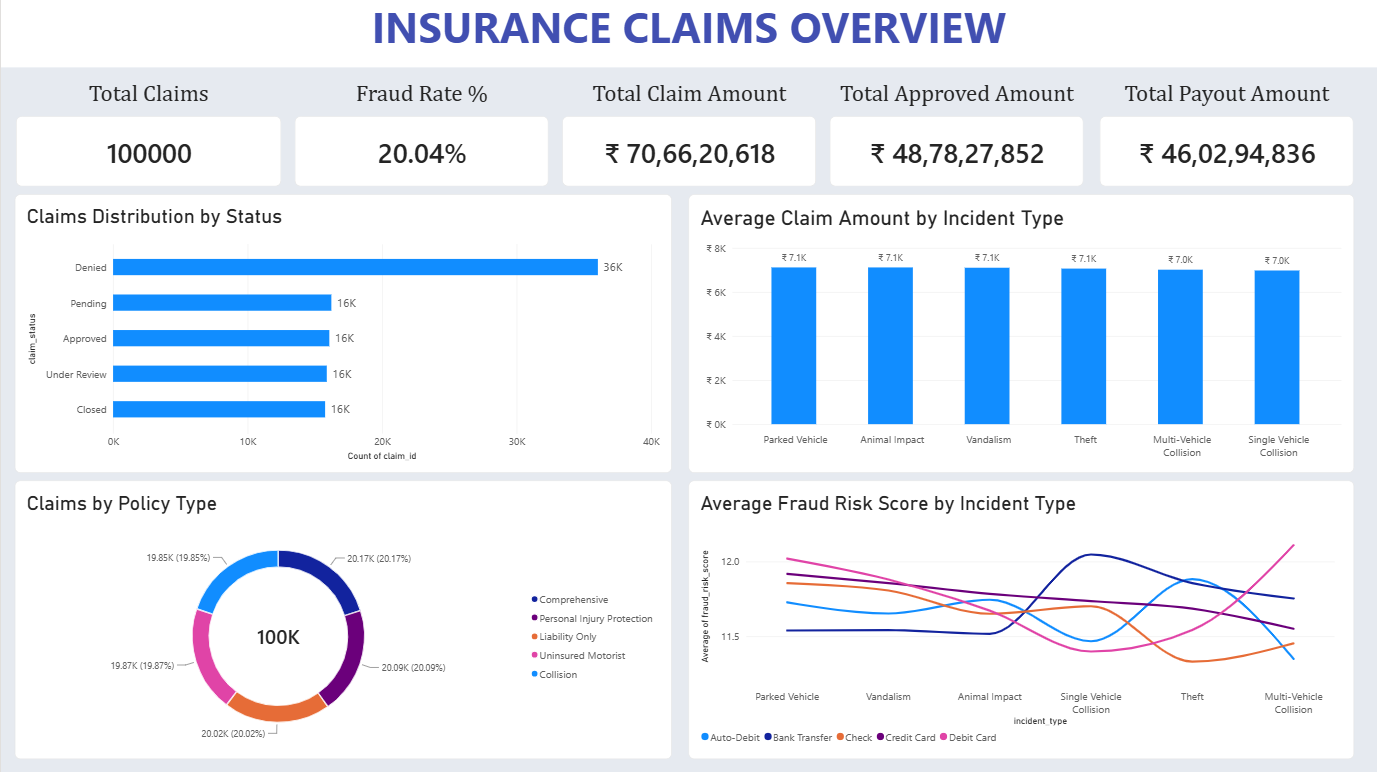

What the dashboard file says about the page in this screenshot:
{"tool":"powerbi","page":{"name":"Overview","canvas":[1920,1080],"ordinal":0},"visuals":[{"type":"cardVisual","title":"Total Claims","fields":{"Data":["insurance_claim_fraud_powerbi.Total Claims"]},"box":[20.9,117.4,370.4,146.1],"z":0},{"type":"textbox","box":[0,0,1920,96.5],"z":1000},{"type":"cardVisual","title":"Fraud Rate %","fields":{"Data":["insurance_claim_fraud_powerbi.Fraud Rate %"]},"box":[409.6,117.4,354.8,146.1],"z":2000},{"type":"cardVisual","title":"Total Claim Amount","fields":{"Data":["insurance_claim_fraud_powerbi.Total Claim Amount"]},"box":[782.6,117.4,354.8,146.1],"z":3000},{"type":"cardVisual","title":"Total Approved Amount","fields":{"Data":["insurance_claim_fraud_powerbi.Total Approved Amount"]},"box":[1155.7,117.4,354.8,146.1],"z":4000},{"type":"cardVisual","title":"Total Payout Amount","fields":{"Data":["insurance_claim_fraud_powerbi.Total Payout Amount"]},"box":[1533.9,117.4,354.8,146.1],"z":5000},{"type":"clusteredBarChart","title":"Claims Distribution by Status","fields":{"Category":["insurance_claim_fraud_powerbi.claim_status"],"Y":["CountNonNull(insurance_claim_fraud_powerbi.claim_id)"]},"box":[20,274.3,917.1,388.6],"z":6000},{"type":"clusteredColumnChart","title":"Average Claim Amount by Incident Type","fields":{"Category":["insurance_claim_fraud_powerbi.incident_type"],"Y":["Avg(insurance_claim_fraud_powerbi.claim_amount)"]},"box":[960,274.3,928.6,388.6],"z":7000},{"type":"donutChart","title":"Claims by Policy Type","fields":{"Category":["insurance_claim_fraud_powerbi.policy_type"],"Y":["CountNonNull(insurance_claim_fraud_powerbi.claim_id)"]},"box":[20,673,917,389],"z":8000},{"type":"lineChart","title":"Average Fraud Risk Score by Incident Type","fields":{"Category":["insurance_claim_fraud_powerbi.incident_type"],"Series":["insurance_claim_fraud_powerbi.payment_method"],"Y":["Avg(insurance_claim_fraud_powerbi.fraud_risk_score)"]},"box":[960,673,929,389],"z":9000}]}

Visuals, with their boxes in screenshot pixels (x1, y1, x2, y2), scaled from the page's 1920x1080 canvas onto the 1377x772 screenshot:
"Total Claims" cardVisual: [15,84,281,188]
textbox: [0,0,1376,69]
"Fraud Rate %" cardVisual: [294,84,548,188]
"Total Claim Amount" cardVisual: [561,84,816,188]
"Total Approved Amount" cardVisual: [829,84,1083,188]
"Total Payout Amount" cardVisual: [1100,84,1355,188]
"Claims Distribution by Status" clusteredBarChart: [14,196,672,474]
"Average Claim Amount by Incident Type" clusteredColumnChart: [688,196,1354,474]
"Claims by Policy Type" donutChart: [14,481,672,759]
"Average Fraud Risk Score by Incident Type" lineChart: [688,481,1355,759]
